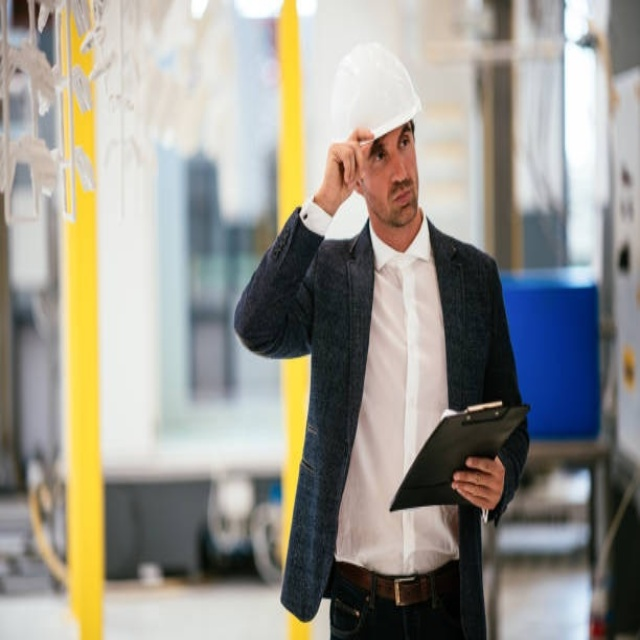Sin_gafas: (368, 127, 416, 177)
Sin_guantes: (321, 125, 378, 201), (452, 452, 506, 514)
Sin_mascara: (386, 180, 418, 221)
